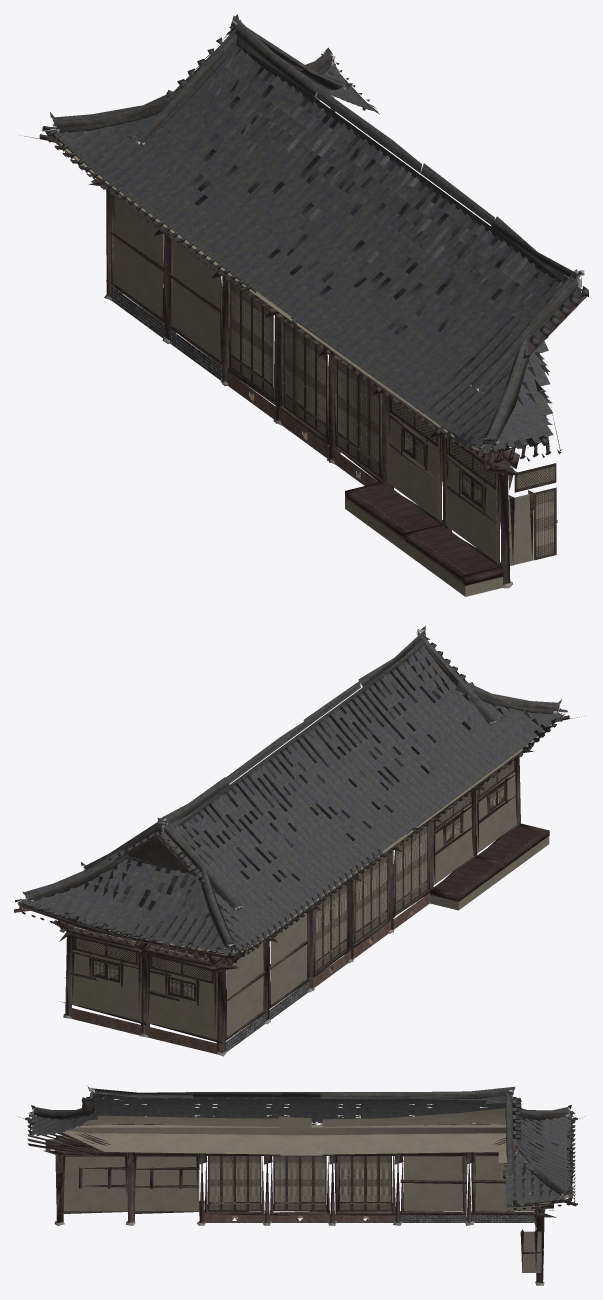
Rendered from TruongHocLow4.fbx.
The picture shows the model from 3 angles, top to bottom: view 1: azimuth 30°, elevation 25°; view 2: azimuth 150°, elevation 25°; view 3: azimuth 270°, elevation 25°; orthographic projection. The views are drawn at different scales.
Parts seen in each view (by area): view 1: Folk_Education_Hall; view 2: Folk_Education_Hall; view 3: Folk_Education_Hall.
Part boxes in pixels (x1=…): Folk_Education_Hall: x1=20, y1=14, x2=588, y2=596; Folk_Education_Hall: x1=14, y1=625, x2=581, y2=1056; Folk_Education_Hall: x1=18, y1=1086, x2=584, y2=1285.
Size of the model in its own units: 1040 by 892 by 2764.
